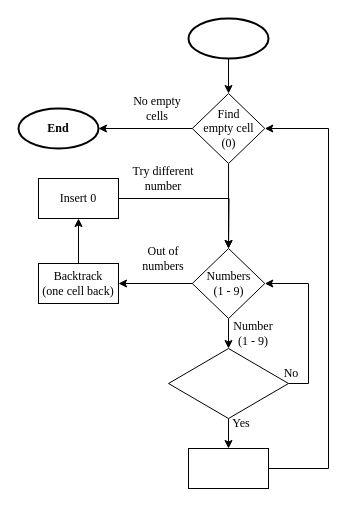
The diagram is 354 pixels wide and 506 high, and some of its shapes have lost their labels. Each missing label, with the centre of its shape:
"Can you insert this number ?" belongs at (228,383).
"Insert number (1 - 9)" belongs at (228,468).
"Start" belongs at (228,38).
